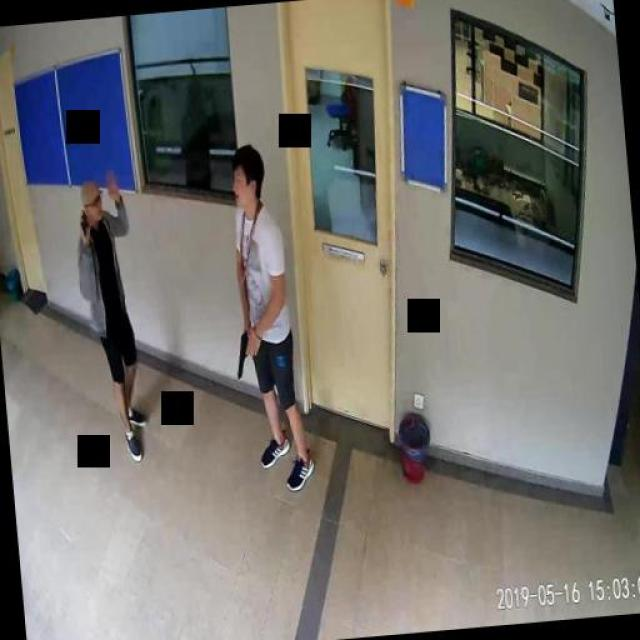gun: (233, 329, 255, 376)
